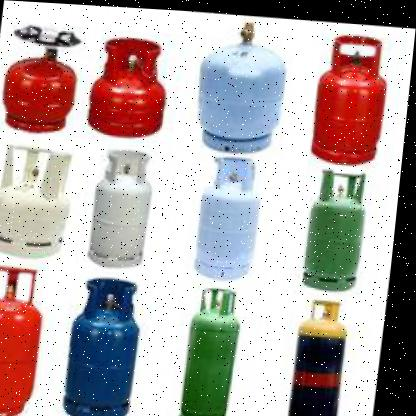gas-tank: (56, 268, 168, 415), (182, 17, 296, 157), (297, 22, 399, 163), (167, 280, 265, 415), (271, 289, 376, 415), (189, 147, 285, 283), (296, 165, 390, 292), (87, 140, 177, 272), (0, 264, 76, 415), (0, 137, 91, 262), (82, 25, 180, 140), (0, 37, 94, 142)
